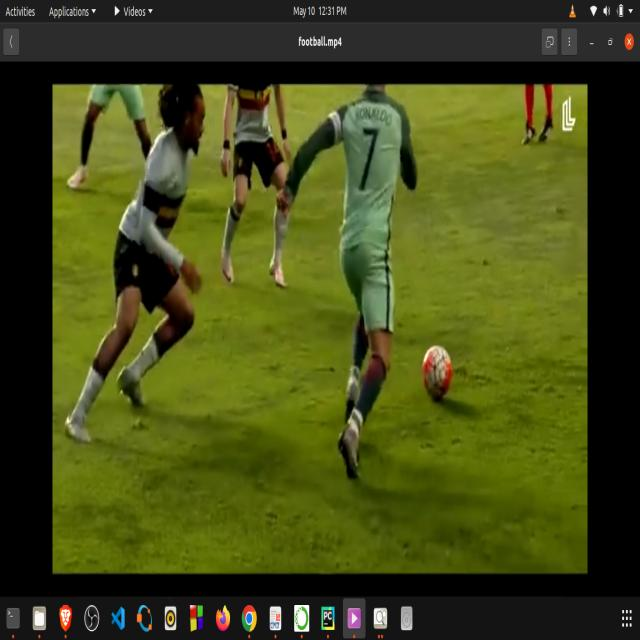Ball: (416, 336, 460, 418), (421, 337, 462, 412)
football-players: (62, 85, 206, 449), (301, 86, 424, 492), (219, 84, 296, 288), (64, 85, 162, 196), (520, 84, 556, 152)
